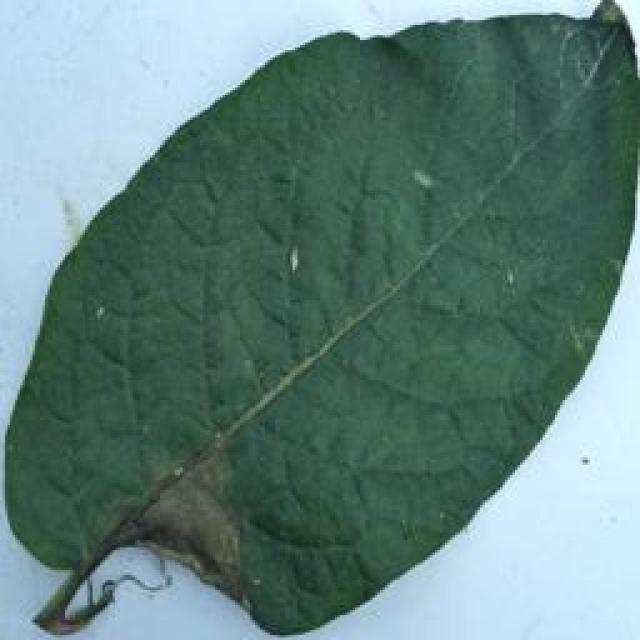Potato_Late_Blight: (7, 5, 625, 631)
